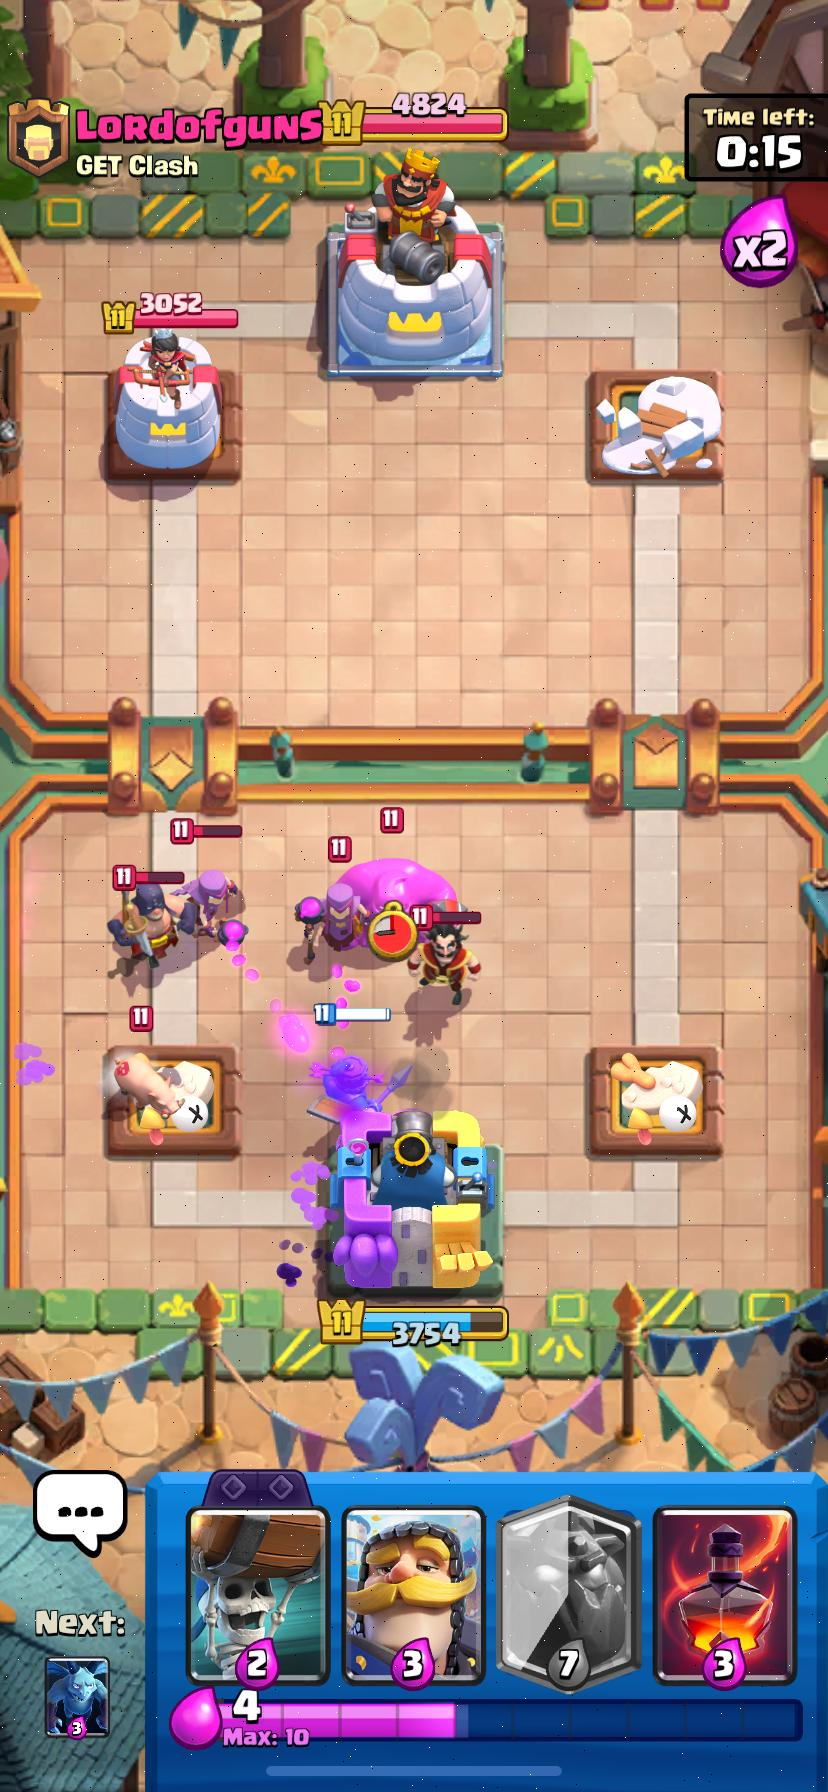EEX: (108, 882, 178, 967)
EEletrcoWizard: (413, 922, 469, 1006)
EElixerGolem: (341, 857, 469, 917)
EHog: (113, 1053, 185, 1119)
EKingTower: (328, 149, 502, 379)
EMotherWitch: (295, 880, 357, 962), (188, 869, 237, 936)
EnemyPrincessTower: (111, 329, 222, 477)
ORoyalR: (308, 1047, 383, 1120)
OwnKingTower: (324, 1110, 502, 1294)
TowerDown: (587, 1045, 723, 1155), (109, 1046, 241, 1155), (589, 371, 722, 479)
